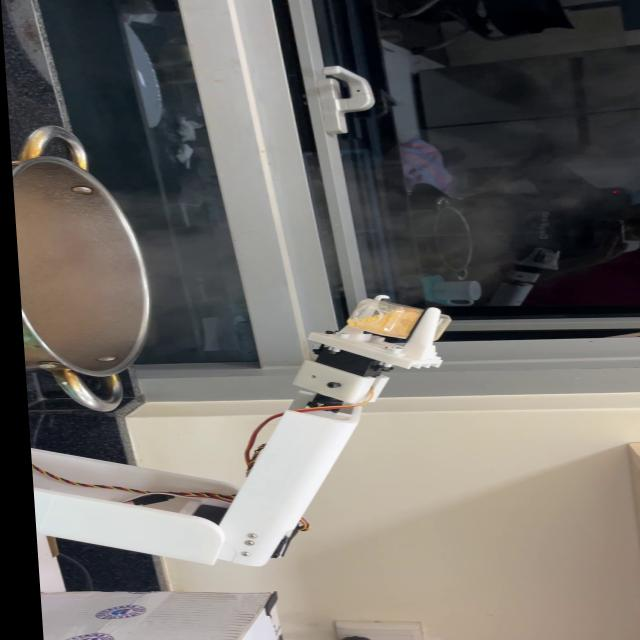cooking_pot: (7, 122, 117, 420)
garlic_powder: (335, 307, 405, 336)
